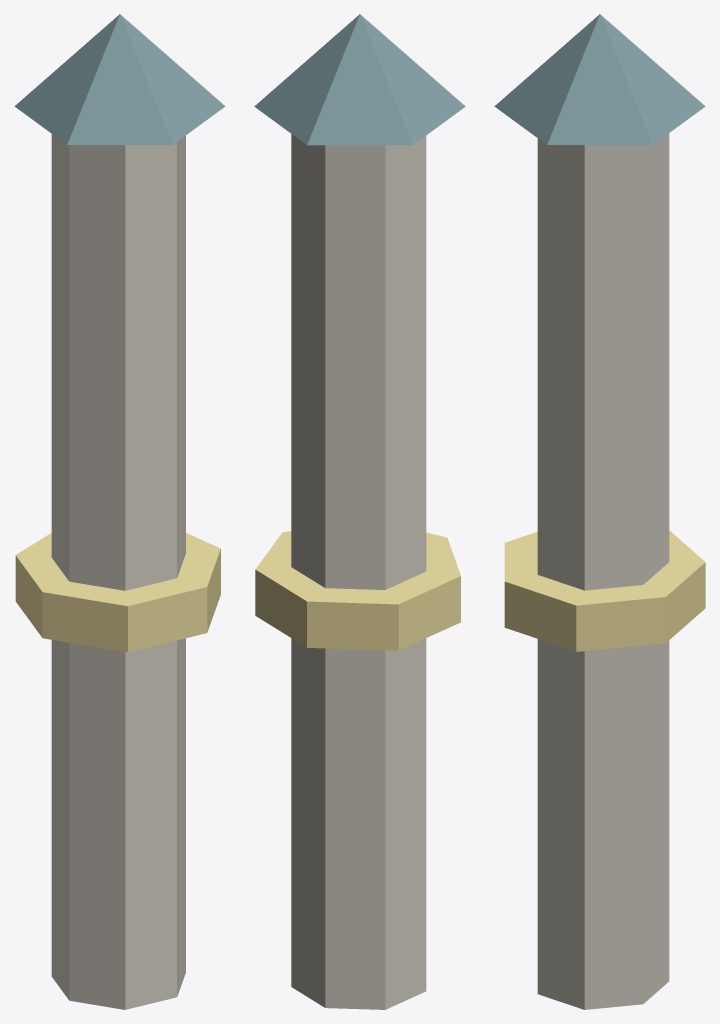
File: harbour-pier-beacon-01.glb
3 views of the same model, side by side, from view 1: azimuth 30°, elevation 25°; view 2: azimuth 150°, elevation 25°; view 3: azimuth 270°, elevation 25° (orthographic).
Visible parts, largest first — view 1: Tower, BeaconRoof, SafetyBand; view 2: Tower, BeaconRoof, SafetyBand; view 3: Tower, BeaconRoof, SafetyBand.
Boxes of the visible parts, left/top/right/bottom form: Tower: left=51, top=134, right=185, bottom=1009; BeaconRoof: left=14, top=14, right=225, bottom=144; SafetyBand: left=15, top=533, right=220, bottom=652; Tower: left=291, top=134, right=426, bottom=1009; BeaconRoof: left=254, top=14, right=465, bottom=145; SafetyBand: left=255, top=531, right=460, bottom=650; Tower: left=537, top=133, right=669, bottom=1009; BeaconRoof: left=494, top=14, right=705, bottom=144; SafetyBand: left=504, top=530, right=705, bottom=651.
Bounding box in the file's own units: 1.13 × 5.86 × 1.16.
